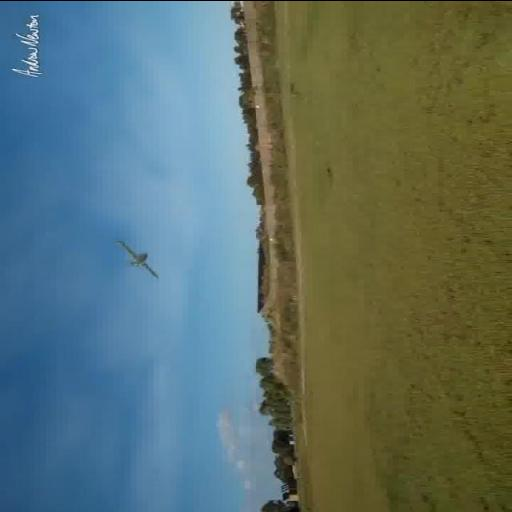uav: (94, 232, 176, 290)
